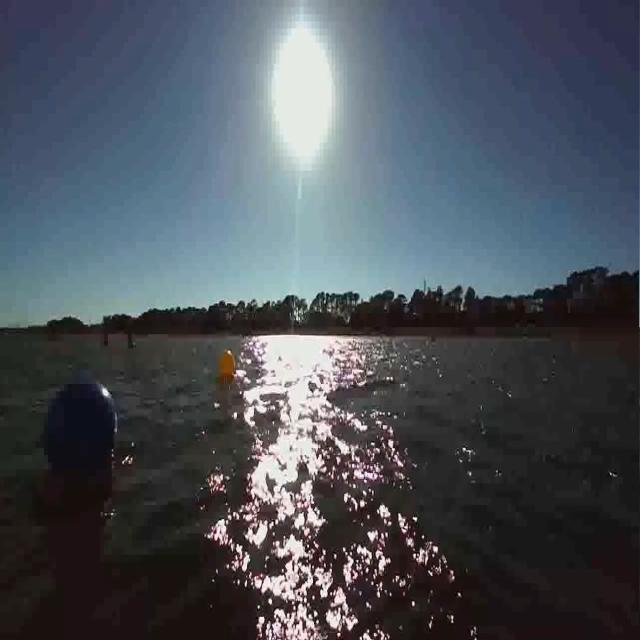blue-buoy: (35, 372, 119, 479)
yellow-buoy: (218, 348, 235, 378)
